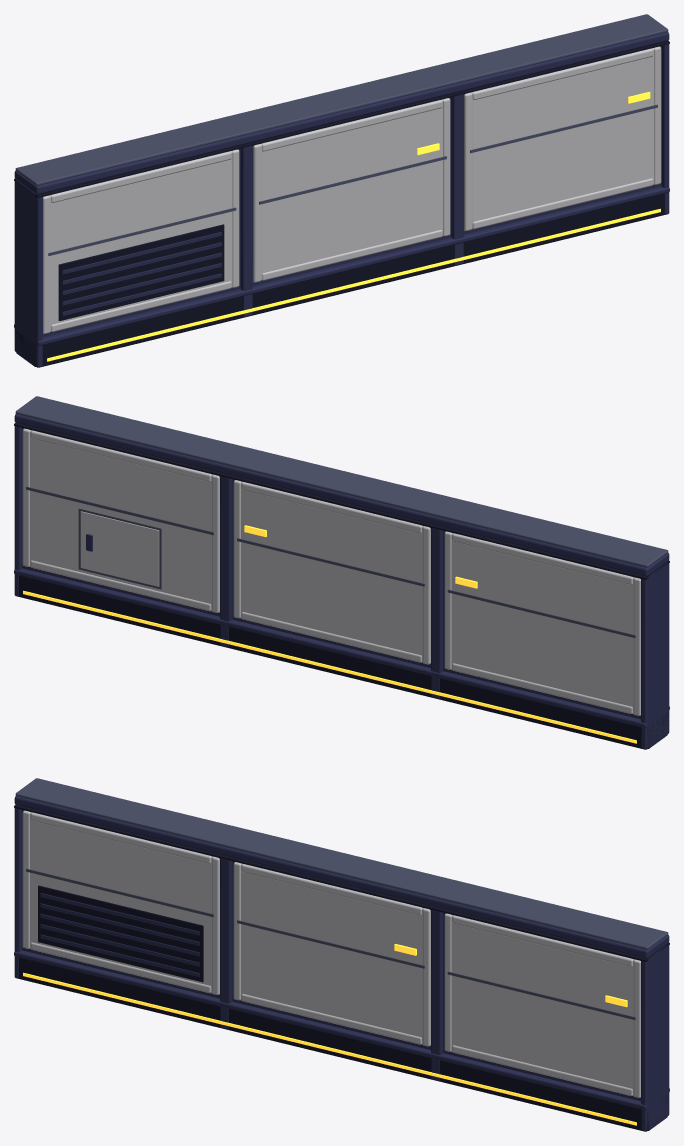
Rendered from int.halfwall.l4.05.glb.
The picture shows the model from 3 angles, top to bottom: view 1: azimuth 30°, elevation 25°; view 2: azimuth 150°, elevation 25°; view 3: azimuth 330°, elevation 25°; orthographic projection.
Parts seen in each view (by area): view 1: int.halfwall.l4.05; view 2: int.halfwall.l4.05; view 3: int.halfwall.l4.05.
Boxes of the visible parts, x1,y1,x2,y2 form: int.halfwall.l4.05: (14,14,669,367); int.halfwall.l4.05: (14,396,669,749); int.halfwall.l4.05: (14,778,669,1131).
Bounding box in the file's own units: 4.06 × 1.13 × 0.278.
